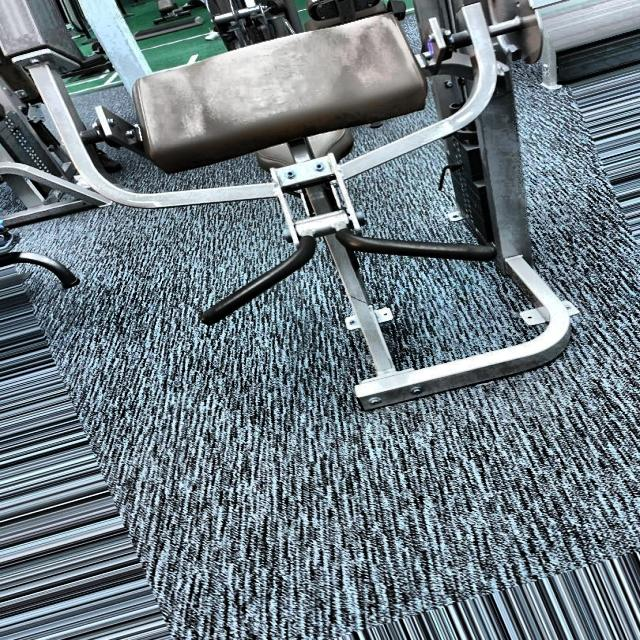bicep_curl_machine: (6, 0, 510, 392)
